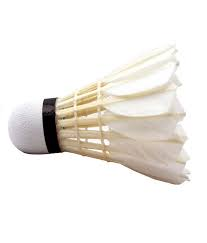shuttle: (2, 40, 193, 195)
